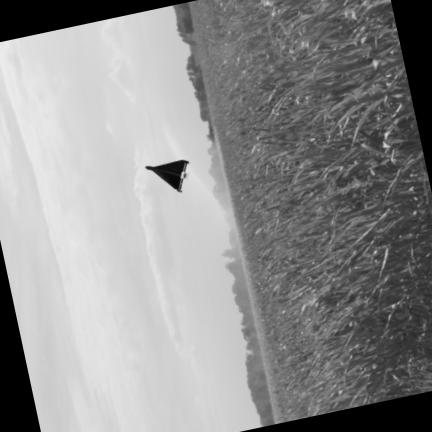Shahed: (146, 159, 188, 191)
